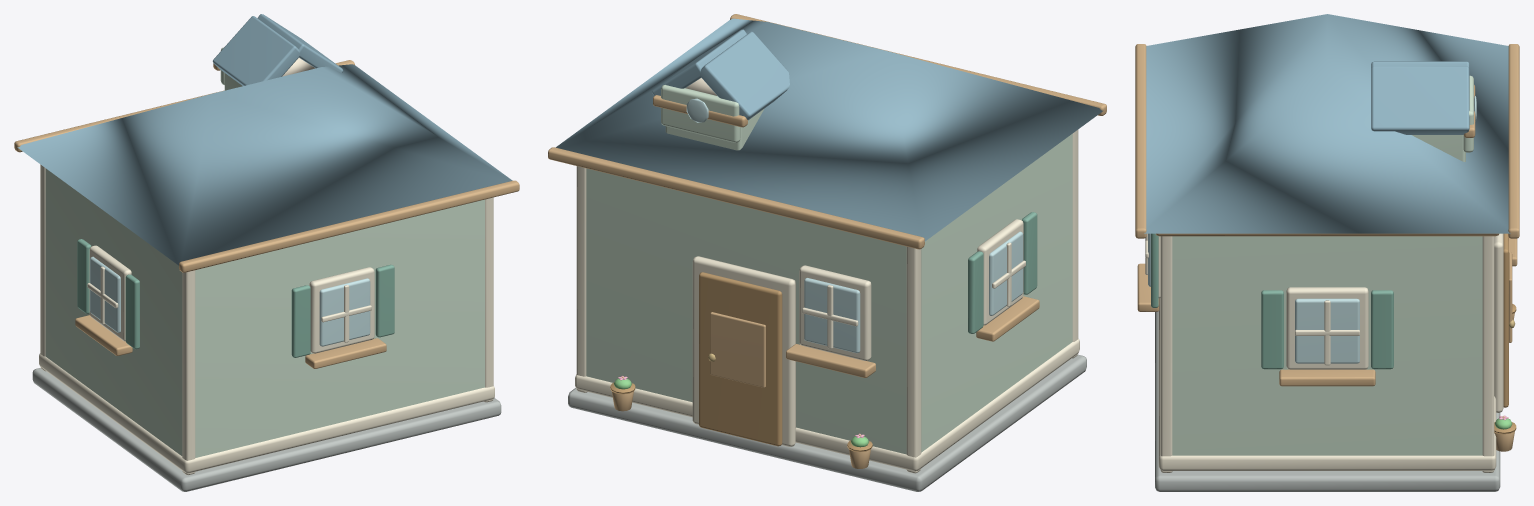
The model's file is cottage_2.glb.
3 renders of one model, left to right at view 1: azimuth 30°, elevation 25°; view 2: azimuth 150°, elevation 25°; view 3: azimuth 270°, elevation 25°, orthographic. The views are drawn at different scales.
Bounding box in the file's own units: 3.92 × 3.57 × 3.36.
